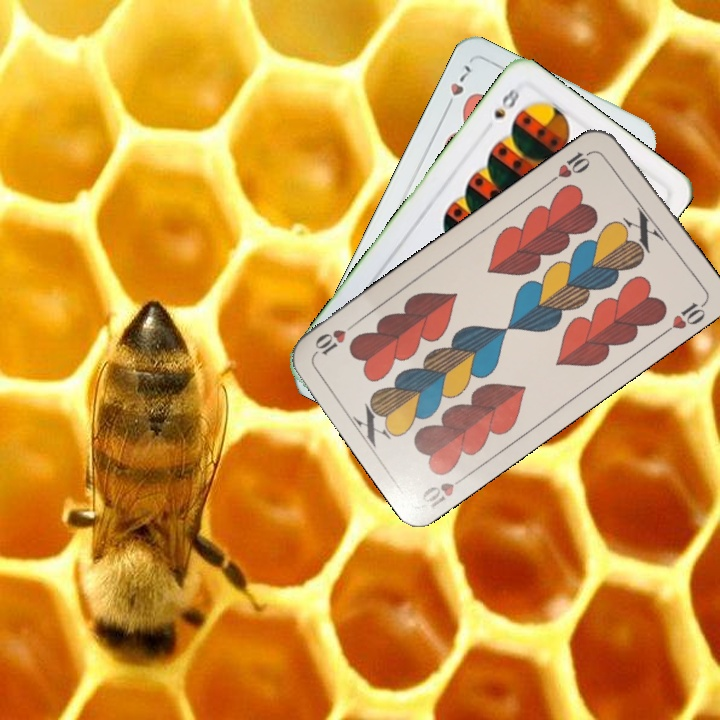H10: (418, 469, 472, 510), (546, 146, 599, 186)
H7: (441, 60, 474, 114)
S8: (489, 80, 522, 121)
